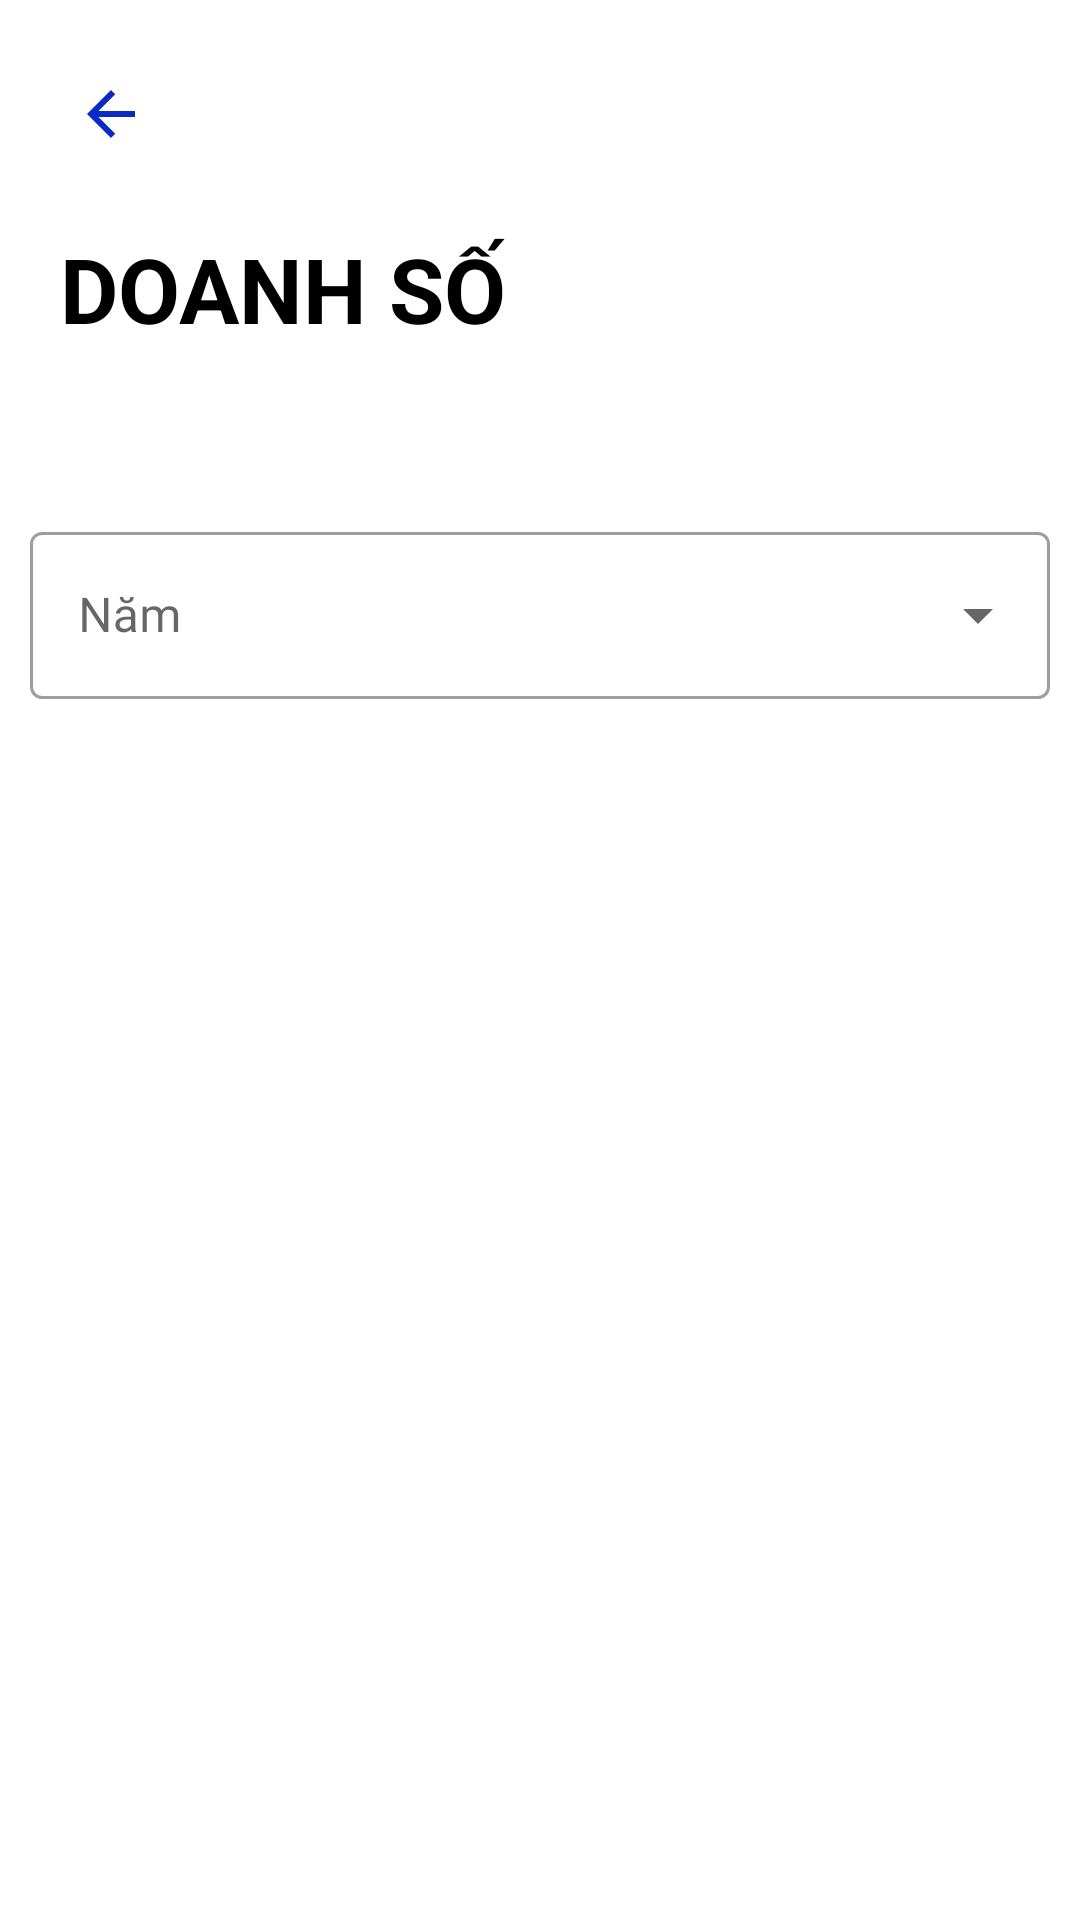

Where to tap for icons on this 1080 × 1920 app screen, as [x,y]:
arrow back: [111,114]
